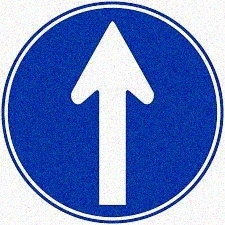Direction_sign: (3, 2, 223, 224)
